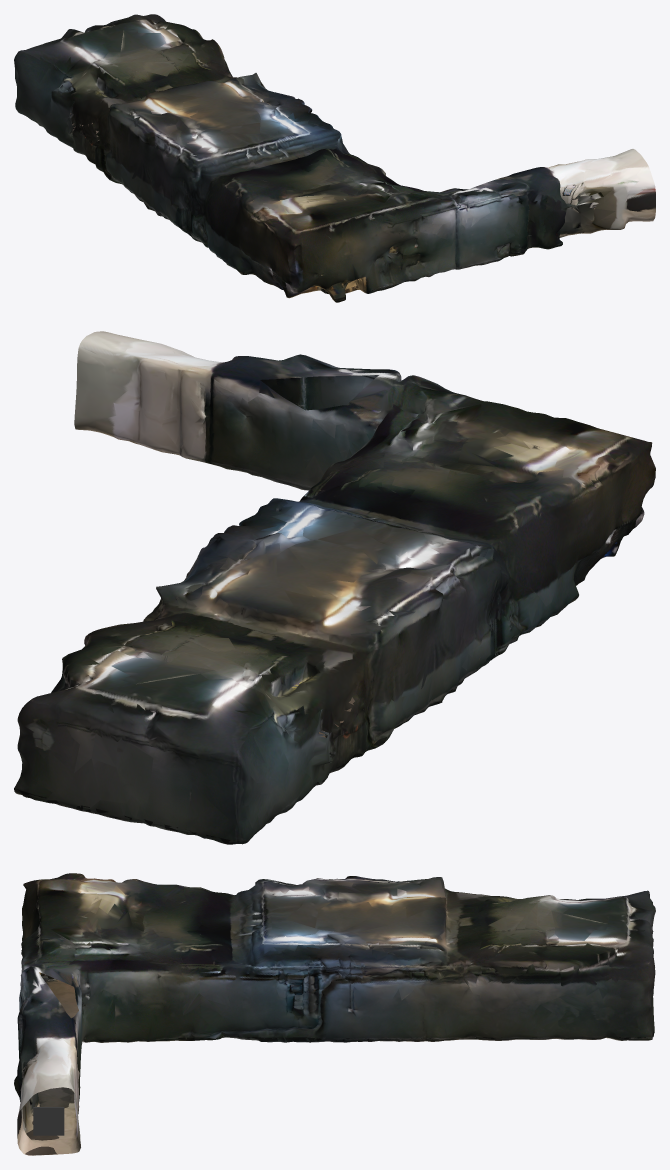
The model's file is vectai_room_org.glb.
3 views of the same model, one above another, from view 1: azimuth 30°, elevation 25°; view 2: azimuth 150°, elevation 25°; view 3: azimuth 270°, elevation 25° (orthographic). The views are drawn at different scales.
Visible parts, largest first — view 1: walls.low; view 2: walls.low; view 3: walls.low, floor.low, ramka.
Part boxes in pixels (x1,y1,x2,y2): walls.low: (14, 14, 655, 302); walls.low: (14, 331, 655, 844); walls.low: (14, 873, 655, 1155); floor.low: (25, 979, 654, 1155); ramka: (33, 1107, 64, 1135).
Bounding box in the file's own units: 18.9 × 3.9 × 25.16.
Materials: 14 (8 with a texture image).
